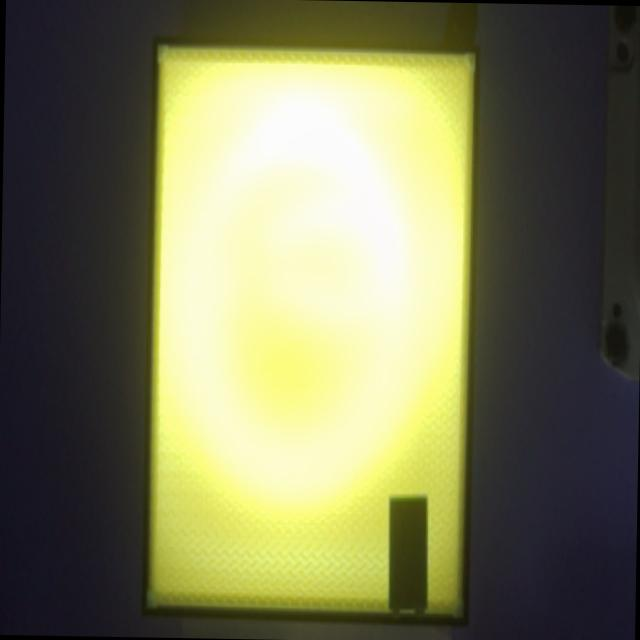bateria: (388, 496, 428, 617)
mesa: (142, 38, 479, 625)
